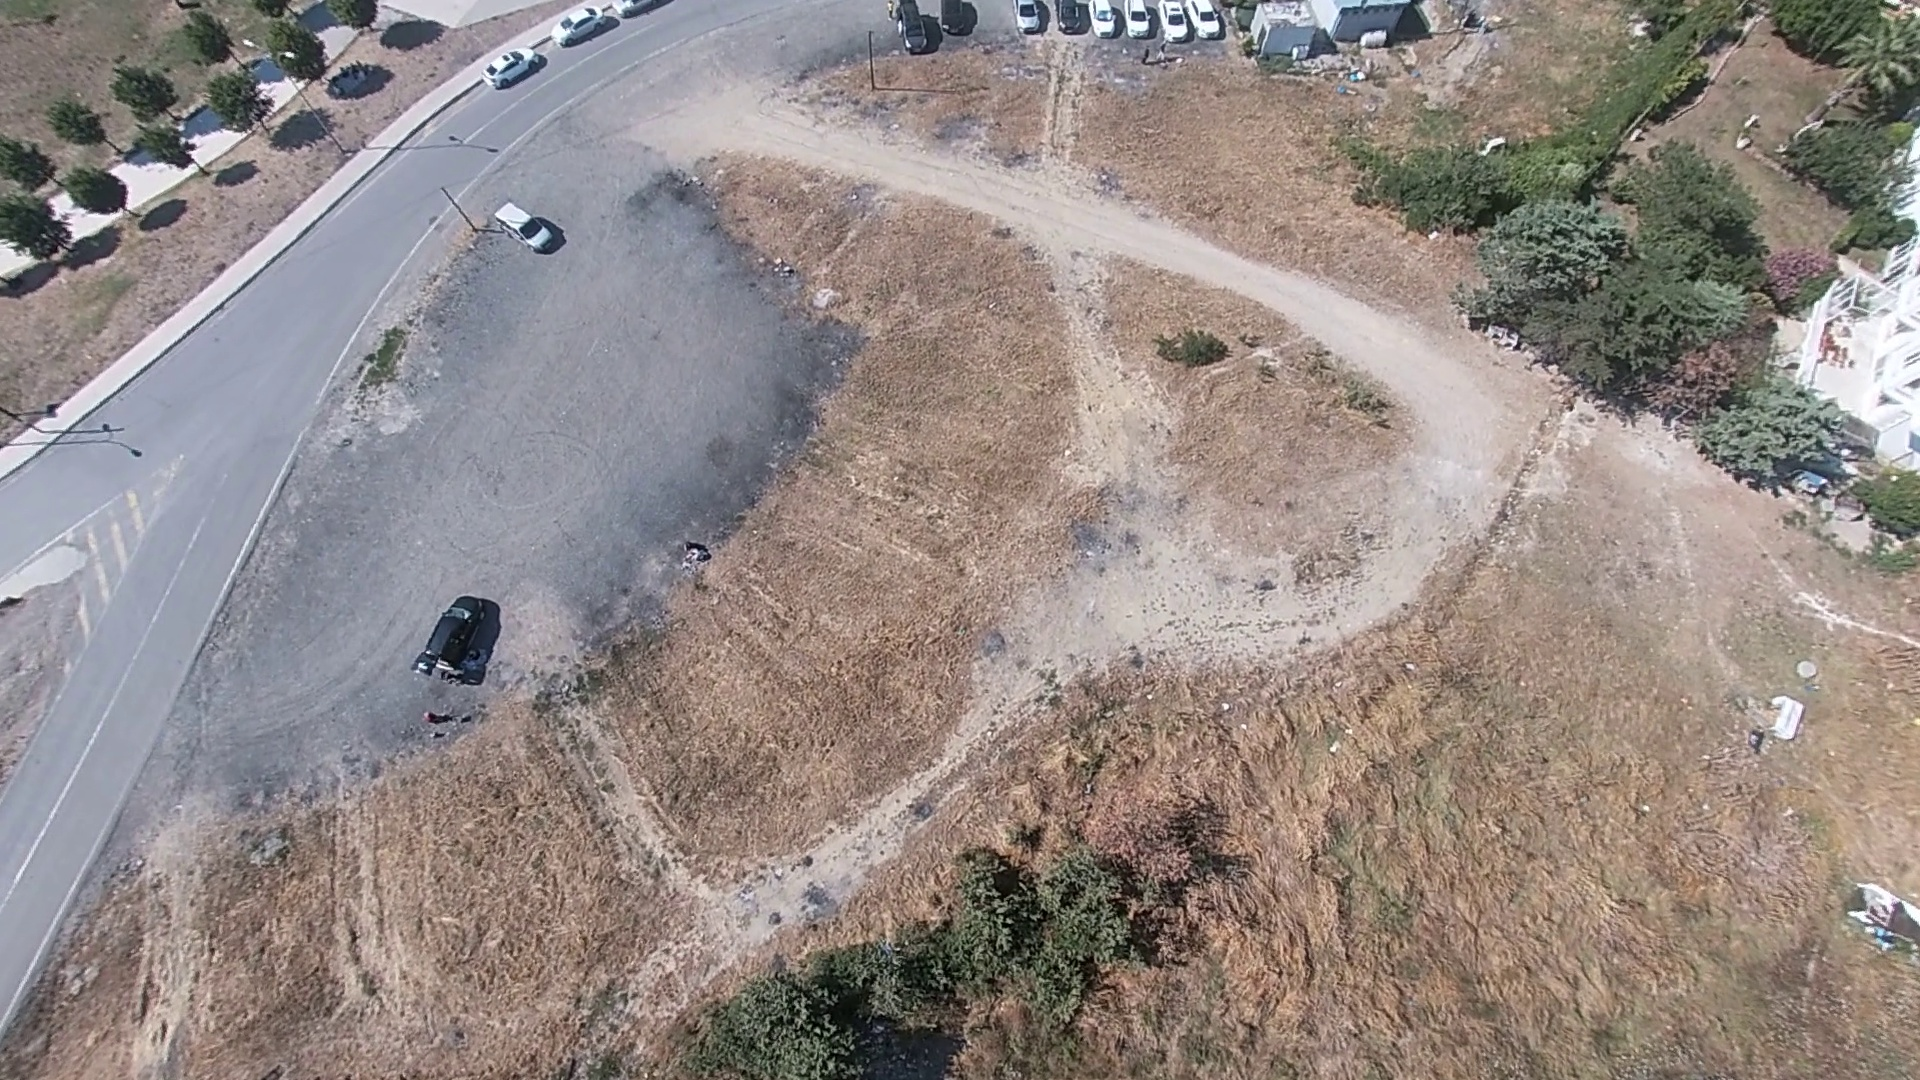arac: (411, 593, 495, 683), (497, 198, 567, 251), (485, 41, 547, 88)
